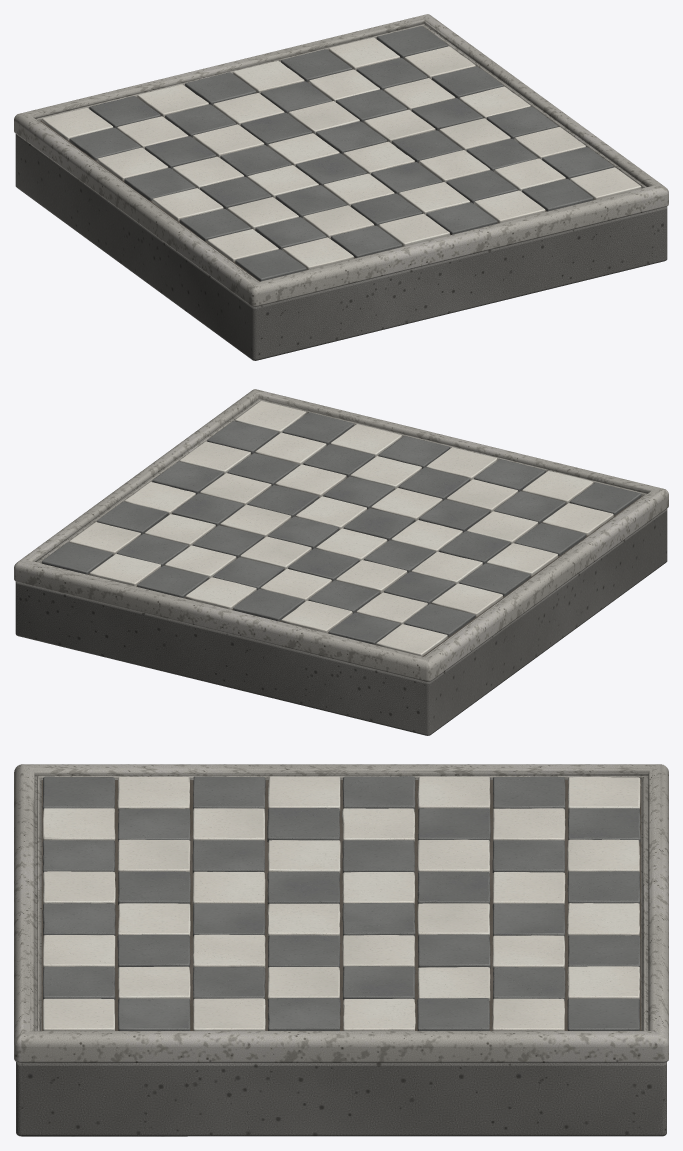
File: board.glb
The picture shows the model from 3 angles, top to bottom: view 1: azimuth 30°, elevation 25°; view 2: azimuth 150°, elevation 25°; view 3: azimuth 270°, elevation 25°; orthographic projection. The views are drawn at different scales.
Parts seen in each view (by area): view 1: Tiles_Dark, Tiles_Light, Base_Box, Lid_Rim; view 2: Tiles_Dark, Tiles_Light, Base_Box, Lid_Rim; view 3: Tiles_Dark, Tiles_Light, Lid_Rim, Base_Box.
Part boxes in pixels (x1=…): Tiles_Dark: x1=69, y1=26, x2=613, y2=281; Tiles_Light: x1=42, y1=37, x2=641, y2=269; Base_Box: x1=15, y1=134, x2=667, y2=360; Lid_Rim: x1=14, y1=14, x2=668, y2=306; Tiles_Dark: x1=42, y1=412, x2=641, y2=644; Tiles_Light: x1=69, y1=401, x2=613, y2=656; Base_Box: x1=15, y1=509, x2=667, y2=735; Lid_Rim: x1=14, y1=389, x2=668, y2=681; Tiles_Dark: x1=42, y1=776, x2=640, y2=1030; Tiles_Light: x1=42, y1=776, x2=640, y2=1030; Lid_Rim: x1=14, y1=764, x2=668, y2=1062; Base_Box: x1=16, y1=1062, x2=666, y2=1136.
Bounding box in the file's own units: 8.73 × 1.48 × 8.73.
5 materials, 5 textured.
